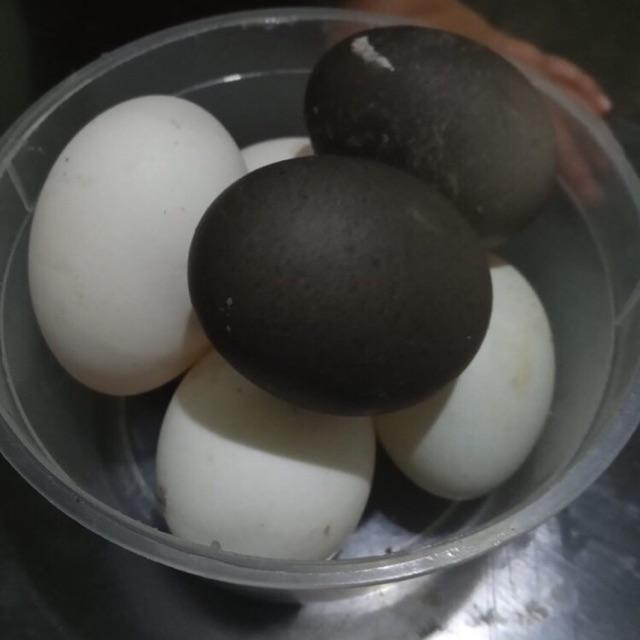Organik: (184, 150, 509, 420), (32, 78, 252, 375), (147, 331, 400, 556), (300, 22, 558, 215), (379, 256, 558, 502)
